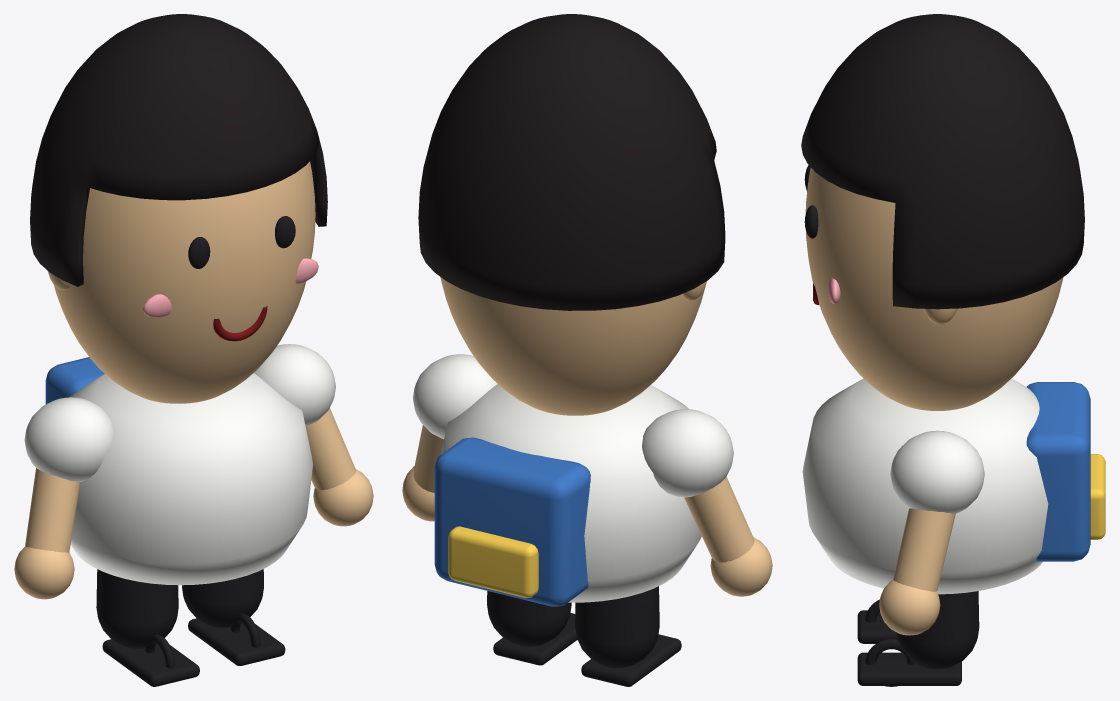
Rendered from customer_student.glb.
3 views of the same model, side by side, from view 1: azimuth 30°, elevation 25°; view 2: azimuth 150°, elevation 25°; view 3: azimuth 270°, elevation 25° (orthographic). The views are drawn at different scales.
Visible parts, largest first — view 1: Hair, HeadSkin, Torso, Sleeve-1, Leg-1, Sleeve1, UpperArmR, Leg1, UpperArmL, HandR, Shoe1, Shoe-1 (+5 smaller); view 2: Hair, Torso, HeadSkin, Backpack, Sleeve-1, Leg-1, BackpackPocket, Sleeve1, UpperArmR, Leg1, HandR, Shoe-1 (+3 smaller); view 3: Hair, Torso, HeadSkin, Backpack, Sleeve1, Leg1, UpperArmL, Shoe1, HandL, BackpackPocket, Shoe-1, Strap1.
Part boxes in pixels (x1=…): Hair: x1=30, y1=14, x2=327, y2=286; HeadSkin: x1=54, y1=161, x2=315, y2=403; Torso: x1=68, y1=373, x2=312, y2=585; Sleeve-1: x1=24, y1=397, x2=113, y2=481; Leg-1: x1=96, y1=569, x2=178, y2=648; Sleeve1: x1=254, y1=344, x2=335, y2=426; UpperArmR: x1=25, y1=468, x2=80, y2=552; Leg1: x1=182, y1=569, x2=263, y2=627; UpperArmL: x1=306, y1=408, x2=355, y2=490; HandR: x1=14, y1=546, x2=74, y2=599; Shoe1: x1=188, y1=618, x2=285, y2=665; Shoe-1: x1=102, y1=639, x2=199, y2=686; Hair: x1=418, y1=14, x2=725, y2=310; Torso: x1=441, y1=384, x2=701, y2=602; HeadSkin: x1=440, y1=277, x2=704, y2=415; Backpack: x1=434, y1=437, x2=590, y2=606; Sleeve-1: x1=642, y1=409, x2=733, y2=497; Leg-1: x1=575, y1=586, x2=659, y2=667; BackpackPocket: x1=448, y1=526, x2=538, y2=597; Sleeve1: x1=413, y1=354, x2=497, y2=439; UpperArmR: x1=684, y1=477, x2=754, y2=562; Leg1: x1=487, y1=591, x2=571, y2=646; HandR: x1=710, y1=537, x2=772, y2=596; Shoe-1: x1=581, y1=634, x2=681, y2=686; Hair: x1=801, y1=14, x2=1084, y2=309; Torso: x1=802, y1=378, x2=1048, y2=594; HeadSkin: x1=805, y1=167, x2=1063, y2=410; Backpack: x1=1026, y1=382, x2=1090, y2=561; Sleeve1: x1=890, y1=430, x2=984, y2=513; Leg1: x1=896, y1=591, x2=979, y2=669; UpperArmL: x1=893, y1=508, x2=955, y2=591; Shoe1: x1=857, y1=652, x2=961, y2=685; HandL: x1=879, y1=580, x2=940, y2=635; BackpackPocket: x1=1090, y1=454, x2=1105, y2=539; Shoe-1: x1=857, y1=610, x2=897, y2=643; Strap1: x1=865, y1=639, x2=916, y2=686.
Bounding box in the file's own units: 0.6808 × 1.17 × 0.5039.
